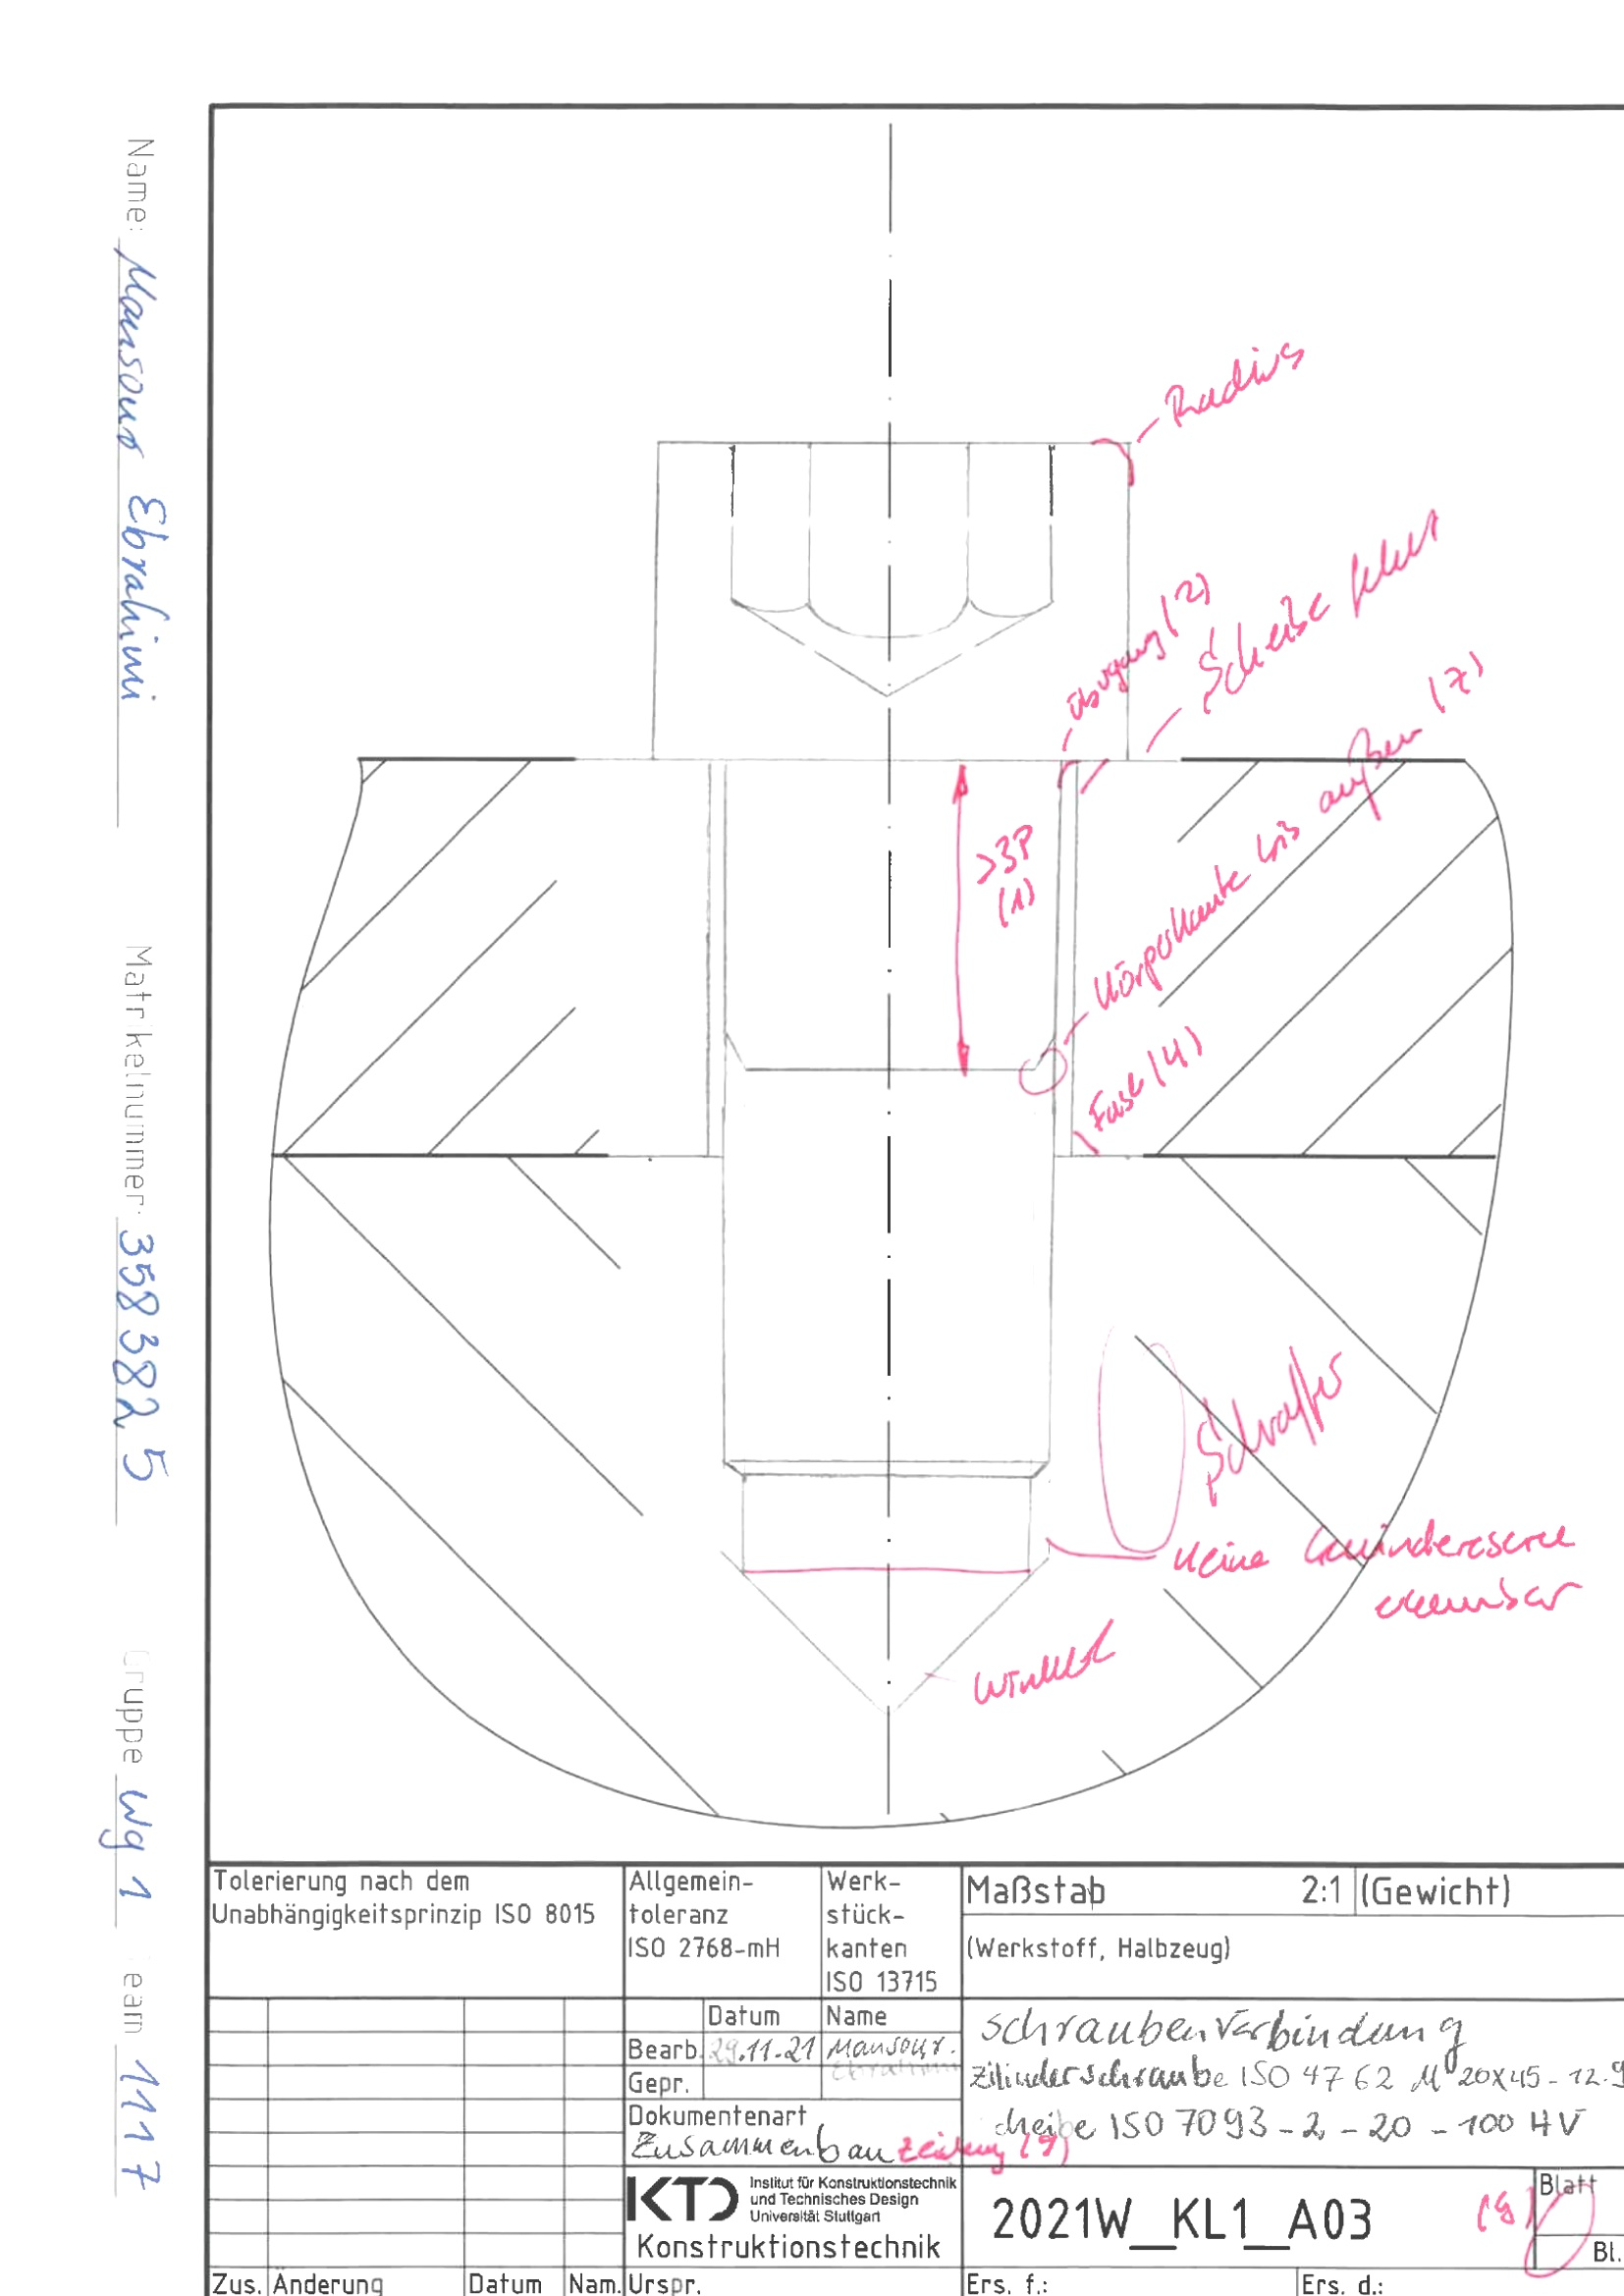Schraube_01-radius fehler-briete klei-y: (1014, 638, 1624, 1188), (954, 1347, 1617, 1733), (1018, 513, 1559, 832), (1053, 309, 1352, 513)
